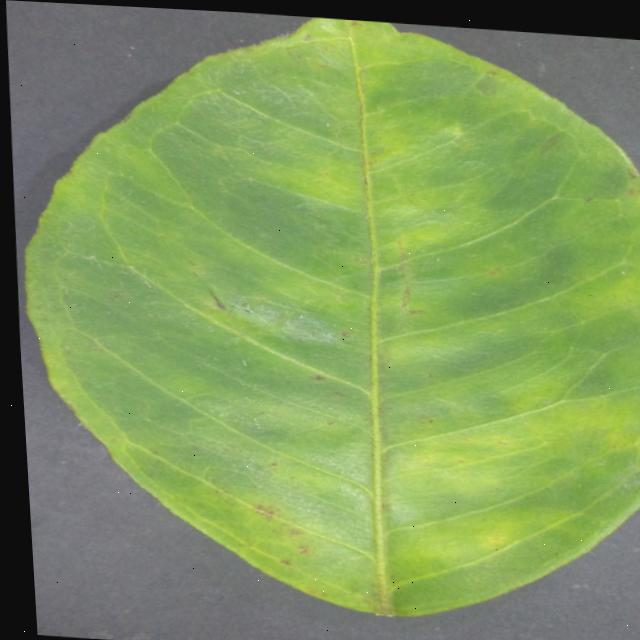greening: (28, 16, 640, 615)
